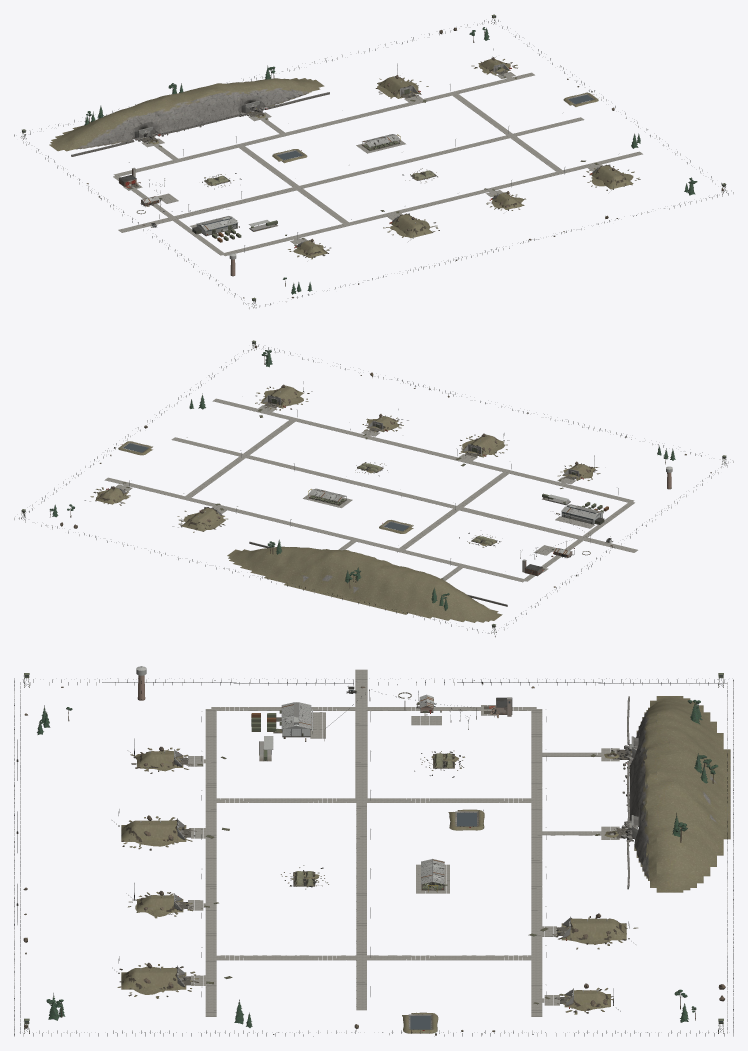
The model's file is site_ammo_w.glb.
3 renders of one model, top to bottom at view 1: azimuth 30°, elevation 25°; view 2: azimuth 150°, elevation 25°; view 3: azimuth 270°, elevation 25°, orthographic. The views are drawn at different scales.
Visible parts, largest first — view 1: deco_roads|tile_conc, deco_knoll|A_A, deco_misc|A_A, deco_trees|A_A, deco_fence|A_A, b_shop|A_A, b_mag1|A_A, b_mag6|A_A; view 2: deco_knoll|A_A, deco_roads|tile_conc, deco_trees|A_A, deco_fence|A_A, b_shop|A_A, deco_misc|A_A, b_mag4|A_A, b_mag6|A_A; view 3: deco_roads|tile_conc, deco_knoll|A_A, deco_fence|A_A, deco_trees|A_A, b_mag6|A_A, b_mag4|A_A, deco_misc|A_A, b_mag1|A_A, b_shop|A_A, b_mag6_ruin|A_B, b_mag4_ruin|A_B, b_mag1_ruin|A_B (+4 smaller).
Boxes of the visible parts, x1,y1,x2,y2 form: deco_roads|tile_conc: (113,72,642,256); deco_knoll|A_A: (49,78,324,151); deco_misc|A_A: (71,67,592,252); deco_trees|A_A: (84,27,697,294); deco_fence|A_A: (14,20,733,308); b_shop|A_A: (192,216,239,236); b_mag1|A_A: (377,63,420,98); b_mag6|A_A: (589,164,633,189); deco_knoll|A_A: (227,546,502,622); deco_roads|tile_conc: (104,398,637,583); deco_trees|A_A: (49,348,675,610); deco_fence|A_A: (14,345,733,637); b_shop|A_A: (561,504,604,524); deco_misc|A_A: (106,399,618,606); b_mag4|A_A: (461,433,504,457); b_mag6|A_A: (261,381,303,408); deco_roads|tile_conc: (188,669,619,1016); deco_knoll|A_A: (622,696,730,892); deco_fence|A_A: (14,678,733,1036); deco_trees|A_A: (37,700,718,1027); b_mag6|A_A: (118,956,190,989); b_mag4|A_A: (118,809,190,841); deco_misc|A_A: (177,689,629,1008); b_mag1|A_A: (557,913,629,940); b_shop|A_A: (273,702,312,738); b_mag6_ruin|A_B: (112,963,232,998); b_mag4_ruin|A_B: (112,816,229,850); b_mag1_ruin|A_B: (528,916,637,949).
Size of the model in its own units: 560 by 33.21 by 465.
Materials: 59 (45 with a texture image).
